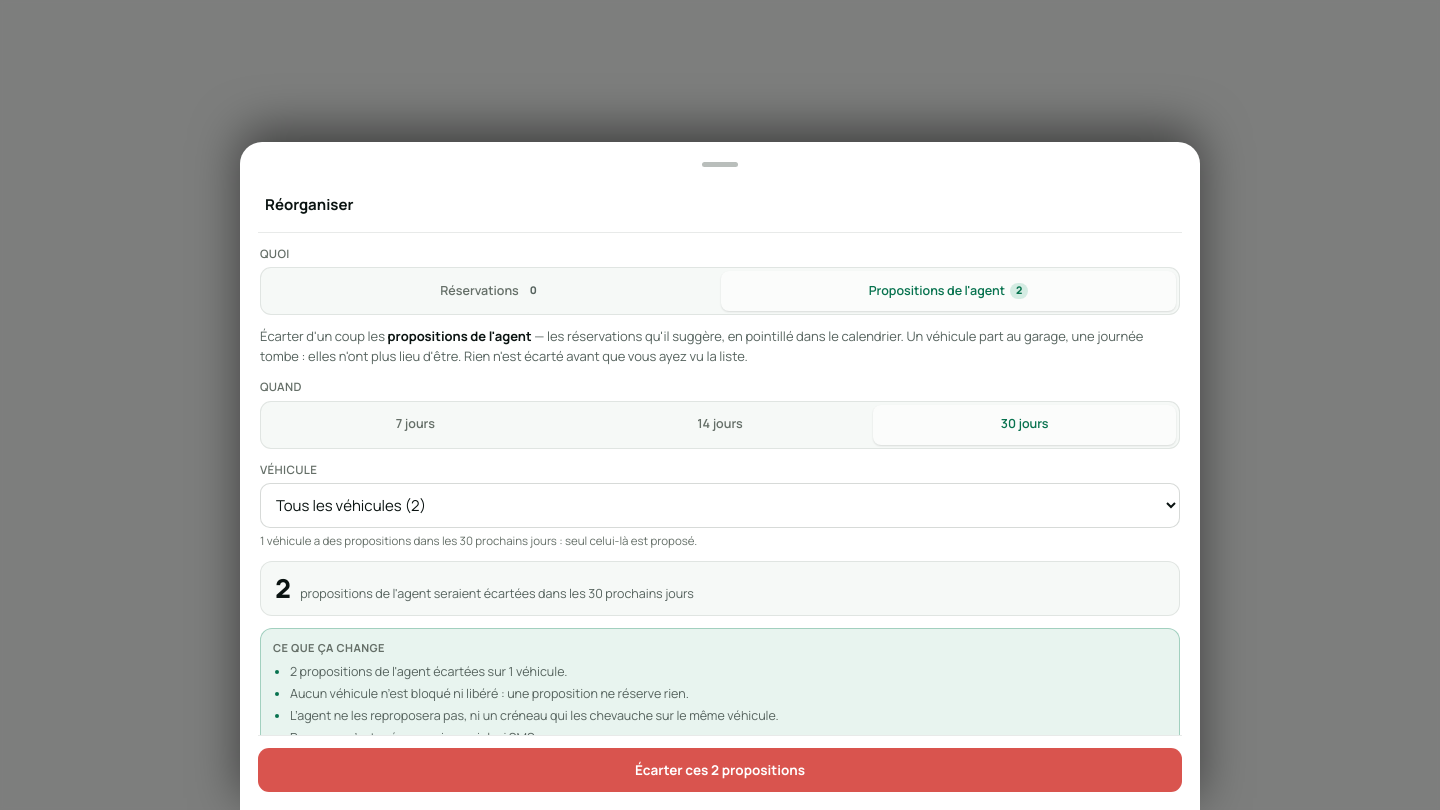
Test: Réorganiser — onglet « Propositions de l’agent » (29/09, piste 3) › refermer la feuille vide la confirmation : elle ne réapparaît pas, périmée, à la réouverture
The image size is (1440, 810).
Click the button "Écarter ces 2 propositions" at (720, 770), box [258,748,1182,792]
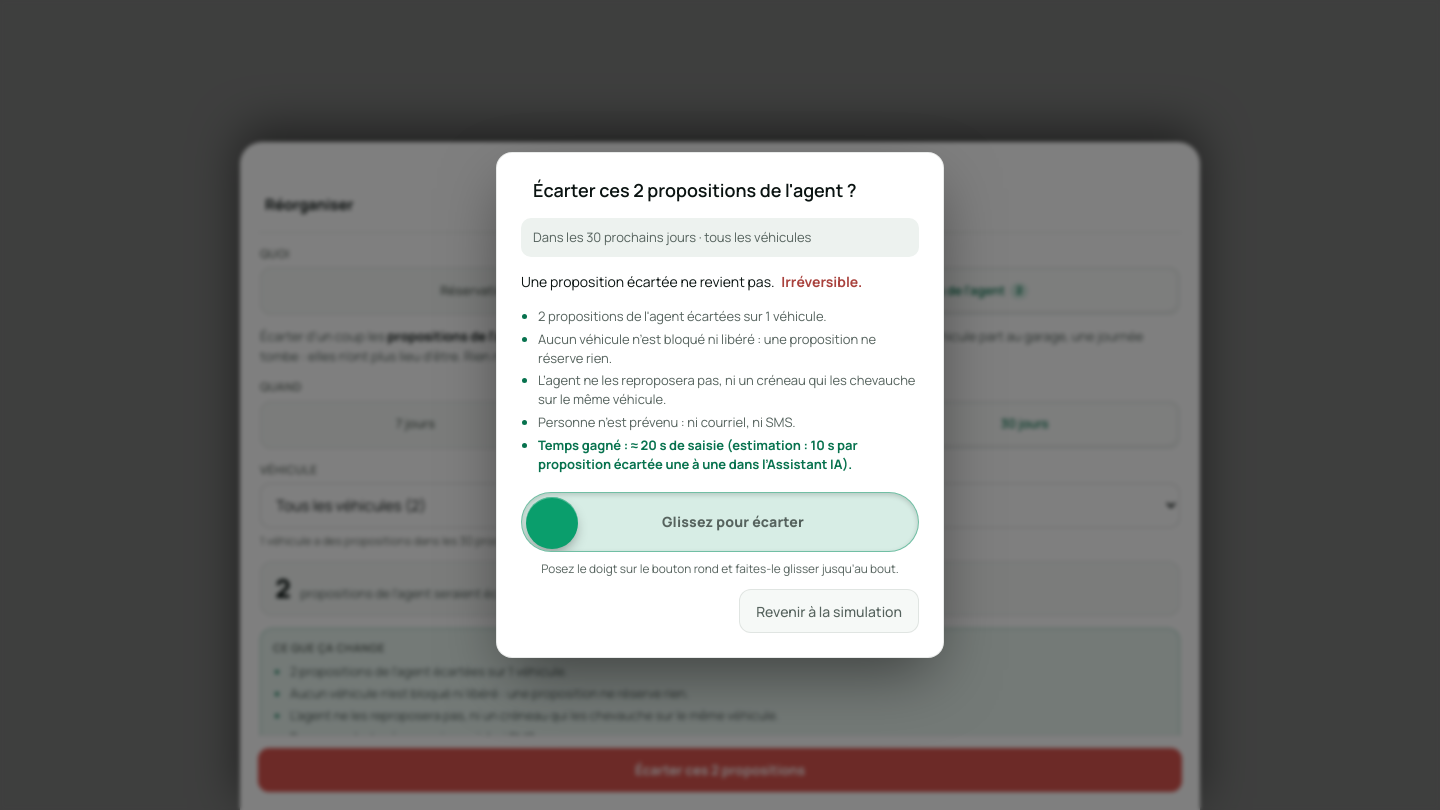
Expected: the dialog is shown
